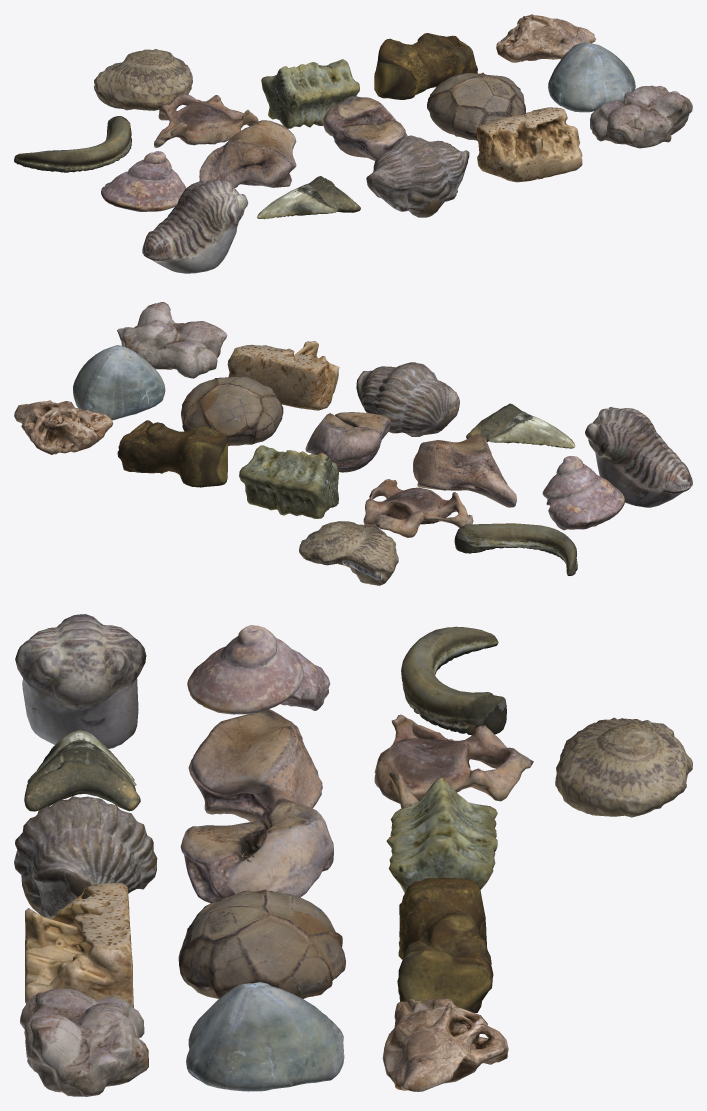
Rendered from Fossils.fbx.
3 renders of one model, top to bottom at view 1: azimuth 30°, elevation 25°; view 2: azimuth 150°, elevation 25°; view 3: azimuth 270°, elevation 25°, orthographic. The views are drawn at different scales.
Visible parts, largest first — view 1: fossil03_fossil03_0.007, fossil03_fossil03_0, fossil03_fossil03_0.010, fossil03_fossil03_0.006, fossil03_fossil03_0.016, fossil03_fossil03_0.001, fossil03_fossil03_0.012, fossil03_fossil03_0.011, fossil03_fossil03_0.014, fossil03_fossil03_0.003, fossil03_fossil03_0.005, fossil03_fossil03_0.002 (+4 smaller); view 2: fossil03_fossil03_0.007, fossil03_fossil03_0.001, fossil03_fossil03_0.010, fossil03_fossil03_0.006, fossil03_fossil03_0.011, fossil03_fossil03_0, fossil03_fossil03_0.003, fossil03_fossil03_0.012, fossil03_fossil03_0.016, fossil03_fossil03_0.014, fossil03_fossil03_0.004, fossil03_fossil03_0.002 (+4 smaller); view 3: fossil03_fossil03_0.011, fossil03_fossil03_0.003, fossil03_fossil03_0.007, fossil03_fossil03_0.010, fossil03_fossil03_0.005, fossil03_fossil03_0.012, fossil03_fossil03_0.014, fossil03_fossil03_0.006, fossil03_fossil03_0.016, fossil03_fossil03_0, fossil03_fossil03_0.001, fossil03_fossil03_0.004 (+4 smaller).
Boxes of the visible parts, left/top/right/bottom form: fossil03_fossil03_0.007: left=142, top=179, right=248, bottom=273; fossil03_fossil03_0: left=476, top=107, right=582, bottom=182; fossil03_fossil03_0.010: left=366, top=135, right=469, bottom=217; fossil03_fossil03_0.006: left=374, top=33, right=477, bottom=99; fossil03_fossil03_0.016: left=199, top=120, right=296, bottom=187; fossil03_fossil03_0.001: left=261, top=59, right=359, bottom=128; fossil03_fossil03_0.012: left=590, top=85, right=692, bottom=148; fossil03_fossil03_0.011: left=427, top=72, right=525, bottom=140; fossil03_fossil03_0.014: left=94, top=49, right=192, bottom=110; fossil03_fossil03_0.003: left=548, top=42, right=635, bottom=112; fossil03_fossil03_0.005: left=323, top=96, right=407, bottom=160; fossil03_fossil03_0.002: left=154, top=94, right=258, bottom=147; fossil03_fossil03_0.007: left=585, top=407, right=692, bottom=507; fossil03_fossil03_0.001: left=239, top=445, right=338, bottom=518; fossil03_fossil03_0.010: left=356, top=362, right=459, bottom=436; fossil03_fossil03_0.006: left=117, top=420, right=227, bottom=487; fossil03_fossil03_0.011: left=181, top=377, right=283, bottom=446; fossil03_fossil03_0: left=227, top=341, right=339, bottom=410; fossil03_fossil03_0.003: left=73, top=345, right=165, bottom=420; fossil03_fossil03_0.012: left=117, top=302, right=227, bottom=378; fossil03_fossil03_0.016: left=413, top=434, right=516, bottom=507; fossil03_fossil03_0.014: left=299, top=521, right=398, bottom=585; fossil03_fossil03_0.004: left=542, top=456, right=624, bottom=530; fossil03_fossil03_0.002: left=363, top=479, right=473, bottom=537; fossil03_fossil03_0.011: left=178, top=889, right=345, bottom=998; fossil03_fossil03_0.003: left=186, top=982, right=344, bottom=1091; fossil03_fossil03_0.007: left=15, top=614, right=146, bottom=748; fossil03_fossil03_0.010: left=14, top=796, right=157, bottom=918; fossil03_fossil03_0.005: left=180, top=798, right=333, bottom=903; fossil03_fossil03_0.012: left=20, top=988, right=148, bottom=1096; fossil03_fossil03_0.014: left=555, top=717, right=692, bottom=817; fossil03_fossil03_0.006: left=397, top=878, right=493, bottom=1012; fossil03_fossil03_0.016: left=188, top=709, right=322, bottom=821; fossil03_fossil03_0: left=25, top=882, right=133, bottom=1007; fossil03_fossil03_0.001: left=386, top=777, right=497, bottom=893; fossil03_fossil03_0.004: left=187, top=625, right=330, bottom=714.
Bounding box in the file's own units: 2080 × 284 × 1310.
1 material, 1 textured.
